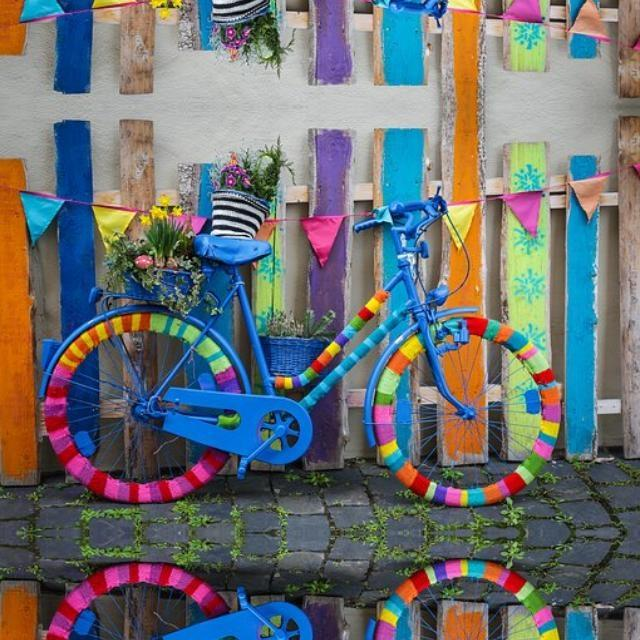obstacle: (19, 192, 588, 522), (19, 543, 588, 640), (19, 0, 588, 20)
